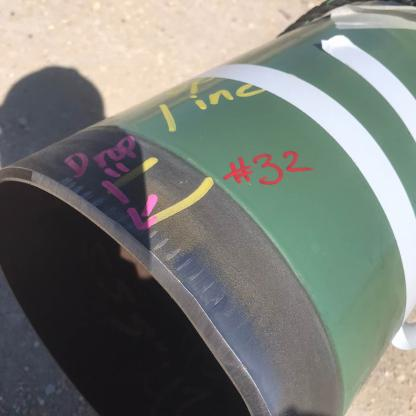Bevel: (106, 211, 127, 239)
